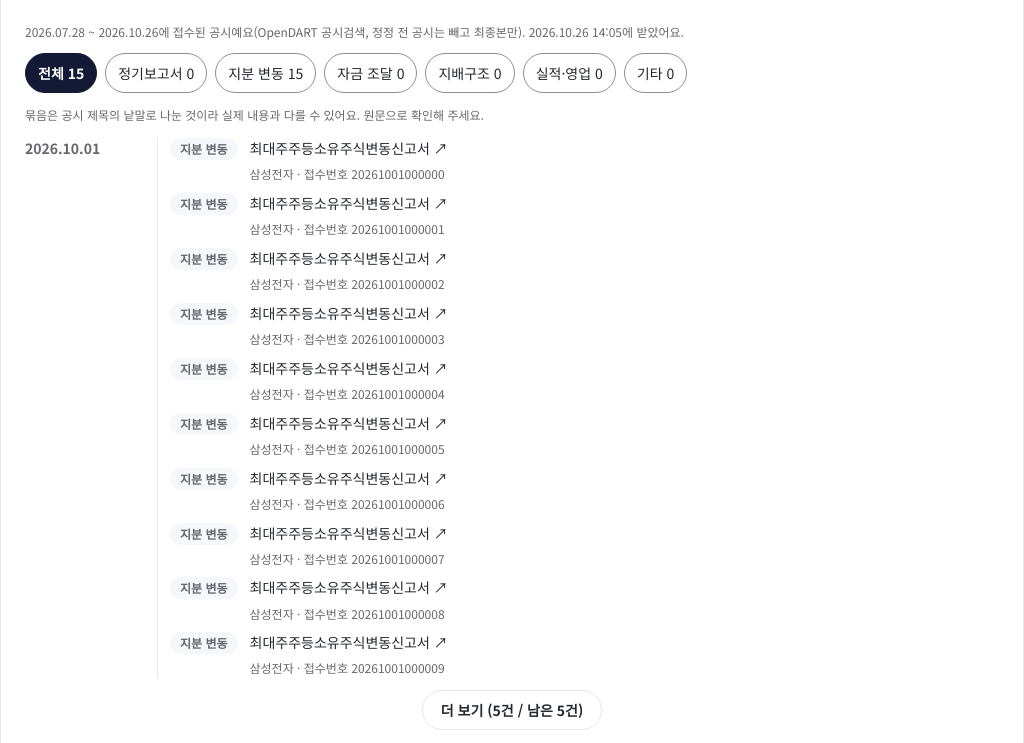
Scenario: 최근 공시 타임라인 › 많으면 일부만 보여 주고 더 보기로 늘린다
The width and height of the screenshot is (1024, 743).
(page scrolled)
Click the button "더 보기 (5건 / 남은 5건)": (512, 710) [422,690,602,730]
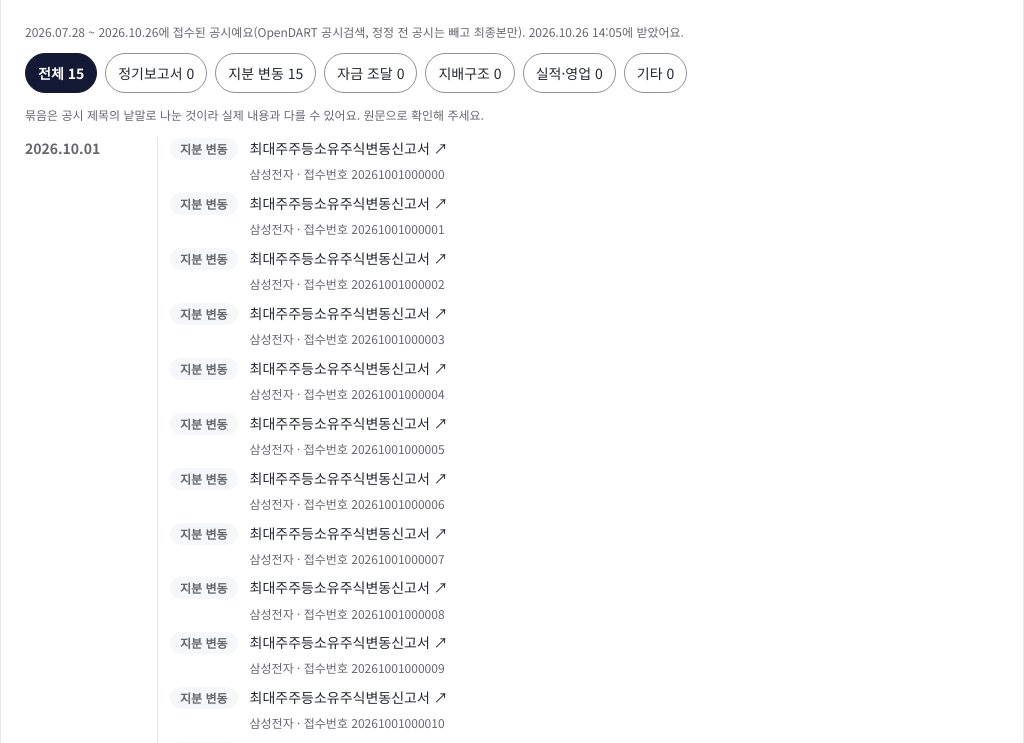
Check: the button "더 보기" is gone
